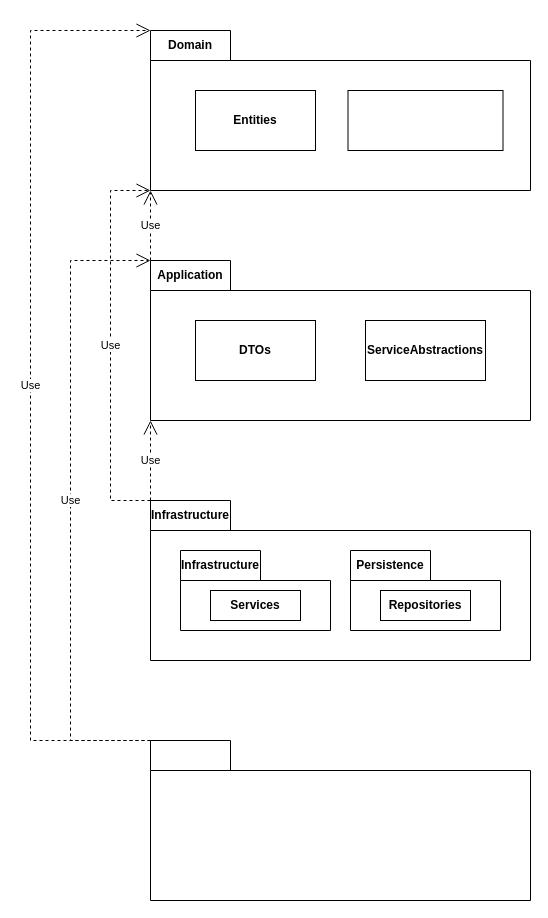
This 548x918 diagram has some shape labels left out. The centre of each missing label's shape, as x and y in pixels:
"Presentation" goes at pixel 340 820.
"RepositoryAbstractions" goes at pixel 425 120.
